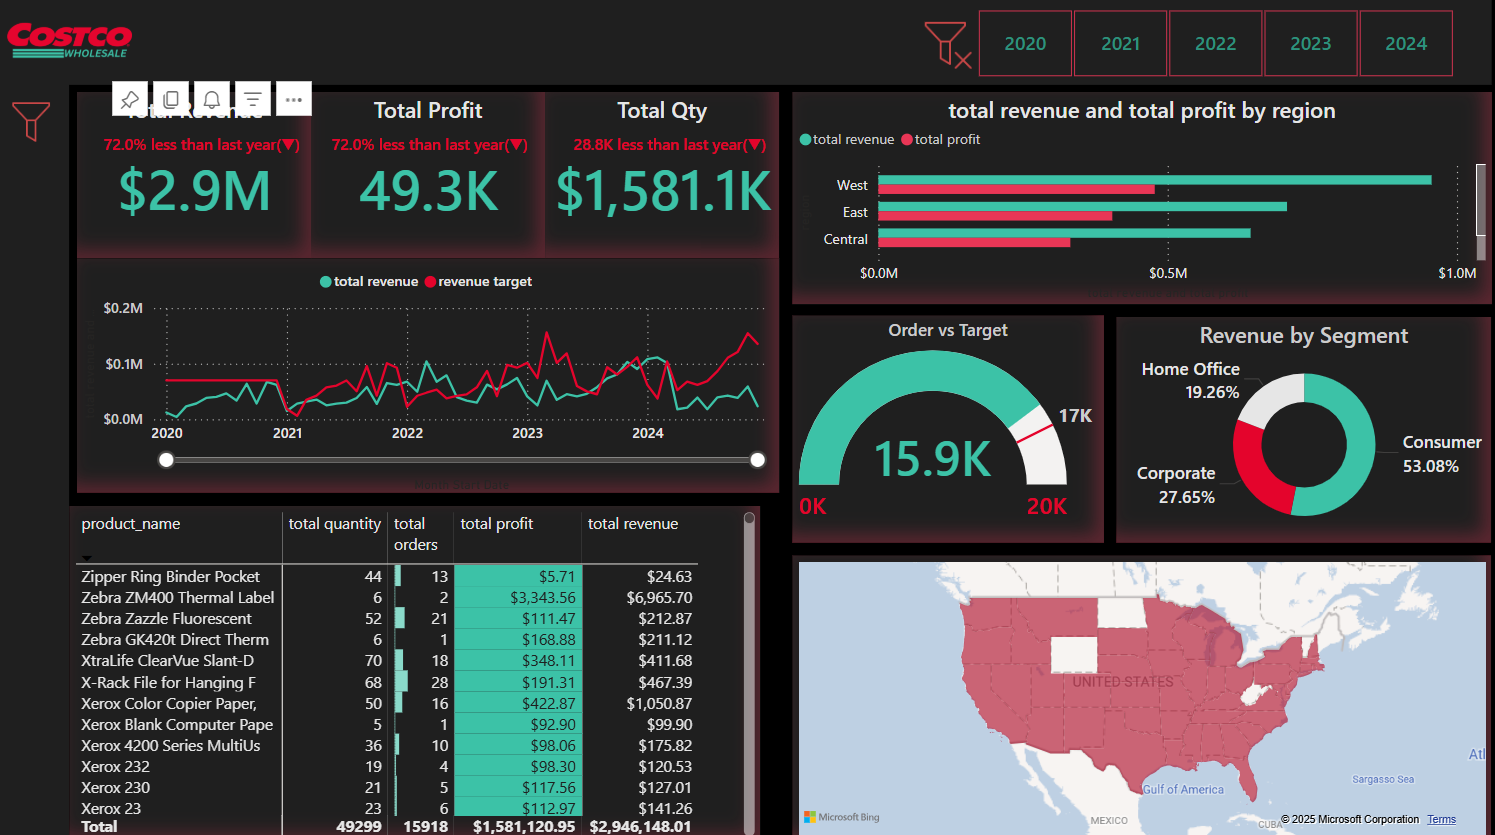

This screenshot's page, from the dashboard's own definition file:
{"tool":"powerbi","page":{"name":"Page 1","canvas":[1280,720],"ordinal":0},"visuals":[{"type":"shape","box":[0,0,1280,73.3],"z":0},{"type":"shape","box":[0,56.7,65,663.3],"z":1000},{"type":"image","box":[5,8.3,120,56.7],"z":2000},{"type":"card","title":"Total Revenue","fields":{"Values":["measures_table.total revenue"]},"box":[71.7,80,200,141.7],"z":3000},{"type":"card","title":"Total Qty","fields":{"Values":["measures_table.total profit"]},"box":[471.7,80,200,141.7],"z":4000},{"type":"card","title":"Total Profit","fields":{"Values":["measures_table.total quantity"]},"box":[271.7,80,200,141.7],"z":5000},{"type":"clusteredBarChart","fields":{"Category":["customers.region"],"Y":["measures_table.total revenue","measures_table.total profit"]},"box":[682.9,80,597.1,181.4],"z":6000},{"type":"lineChart","fields":{"Category":["date_table.Month Start Date"],"Y":["measures_table.total revenue","measures_table.revenue target"]},"box":[71.7,221.7,600,200],"z":7000},{"type":"gauge","title":"Order vs Target","fields":{"Y":["measures_table.total orders"],"TargetValue":["measures_table.target orders"]},"box":[682.9,270,265.7,194.3],"z":8000},{"type":"donutChart","title":"Revenue by Segment","fields":{"Category":["customers.segment"],"Y":["measures_table.total revenue"]},"box":[960,271.4,320,192.9],"z":9000},{"type":"filledMap","fields":{"Category":["customers.state"]},"box":[683.3,475,596.7,245],"z":10000},{"type":"pivotTable","fields":{"Rows":["products.product_name"],"Values":["measures_table.total quantity","measures_table.total orders","measures_table.total profit","measures_table.total revenue"]},"box":[65.7,432.9,590,287.1],"z":11000},{"type":"slicer","fields":{"Values":["date_table.Year"]},"box":[815.6,3.1,454.7,70.3],"z":12000},{"type":"image","title":"Clear Filter Button","box":[790.6,10.9,50,56.2],"z":13000},{"type":"image","title":"Open Filter Pane Button","box":[9.4,79.7,46.9,51.6],"z":14000},{"type":"group","id":"g1","title":"last new measures","box":[82.8,101.6,589.1,50],"z":14500},{"type":"card","fields":{"Values":["measures_table.KPI profit YOY"]},"box":[278.1,101.6,189.1,50],"z":16000,"group":"g1"},{"type":"card","fields":{"Values":["measures_table.KPI qty YOY"]},"box":[482.8,101.6,189.1,50],"z":17000,"group":"g1"},{"type":"card","fields":{"Values":["measures_table.KPI profit YOY"]},"box":[82.8,101.6,189.1,50],"z":18000,"group":"g1"}]}

Visuals, with their boxes in screenshot pixels (x1, y1, x2, y2), scaled from the page's 1280x720 canvas onto the 1495x835 screenshot:
shape: [x1=0, y1=0, x2=1494, y2=85]
shape: [x1=0, y1=66, x2=76, y2=834]
image: [x1=6, y1=10, x2=146, y2=75]
"Total Revenue" card: [x1=84, y1=93, x2=317, y2=257]
"Total Qty" card: [x1=551, y1=93, x2=785, y2=257]
"Total Profit" card: [x1=317, y1=93, x2=551, y2=257]
clusteredBarChart - customers.region x measures_table.total revenue: [x1=798, y1=93, x2=1494, y2=303]
lineChart - date_table.Month Start Date x measures_table.total revenue: [x1=84, y1=257, x2=785, y2=489]
"Order vs Target" gauge: [x1=798, y1=313, x2=1108, y2=538]
"Revenue by Segment" donutChart: [x1=1121, y1=315, x2=1494, y2=538]
filledMap - customers.state: [x1=798, y1=551, x2=1494, y2=834]
pivotTable - products.product_name x measures_table.total quantity: [x1=77, y1=502, x2=766, y2=834]
slicer - date_table.Year: [x1=953, y1=4, x2=1484, y2=85]
"Clear Filter Button" image: [x1=923, y1=13, x2=982, y2=78]
"Open Filter Pane Button" image: [x1=11, y1=92, x2=66, y2=152]
"last new measures" group: [x1=97, y1=118, x2=785, y2=176]
card - measures_table.KPI profit YOY: [x1=325, y1=118, x2=546, y2=176]
card - measures_table.KPI qty YOY: [x1=564, y1=118, x2=785, y2=176]
card - measures_table.KPI profit YOY: [x1=97, y1=118, x2=318, y2=176]
